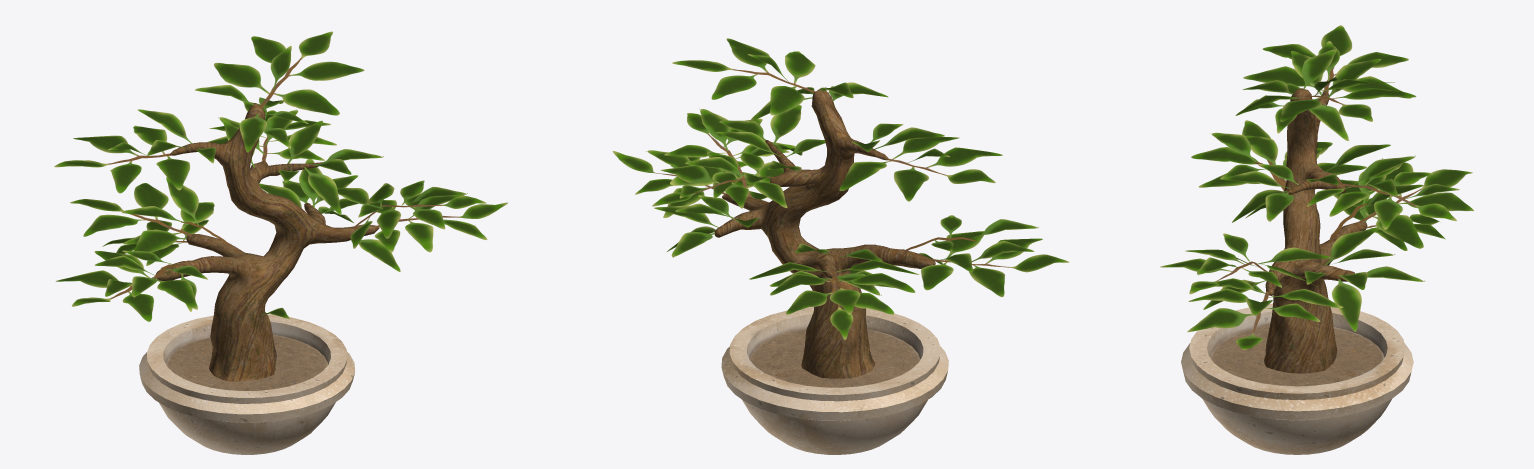
Rendered from bonsaitree.glb.
3 renders of one model, left to right at view 1: azimuth 30°, elevation 25°; view 2: azimuth 150°, elevation 25°; view 3: azimuth 270°, elevation 25°, orthographic. The views are drawn at different scales.
Parts seen in each view (by area): view 1: Leaves, Plant_Pot, Retopo_New; view 2: Leaves, Plant_Pot, Retopo_New; view 3: Leaves, Plant_Pot, Retopo_New.
Boxes of the visible parts, x1,y1,x2,y2 form: Leaves: [54, 31, 507, 321]; Plant_Pot: [139, 314, 354, 454]; Retopo_New: [156, 103, 379, 381]; Leaves: [612, 38, 1068, 339]; Plant_Pot: [721, 307, 948, 454]; Retopo_New: [714, 89, 935, 378]; Leaves: [1160, 25, 1473, 349]; Plant_Pot: [1181, 303, 1413, 454]; Retopo_New: [1264, 88, 1367, 373].
Size of the model in its own units: 0.6349 by 0.4472 by 0.4029.
Materials: 3 (3 with a texture image).
